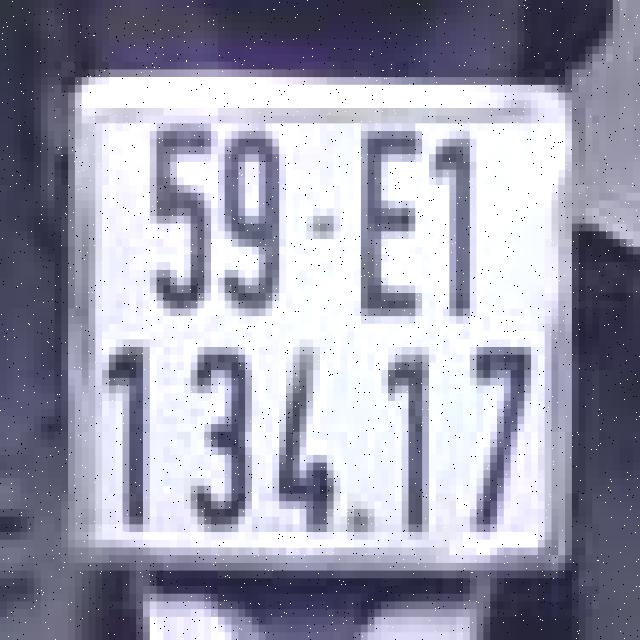1: (99, 324, 167, 540), (381, 331, 443, 563), (432, 120, 494, 328)
3: (177, 328, 259, 536)
4: (266, 332, 347, 540)
5: (133, 104, 221, 320)
7: (446, 328, 548, 551)
9: (214, 108, 303, 316)
E: (340, 112, 436, 335)
